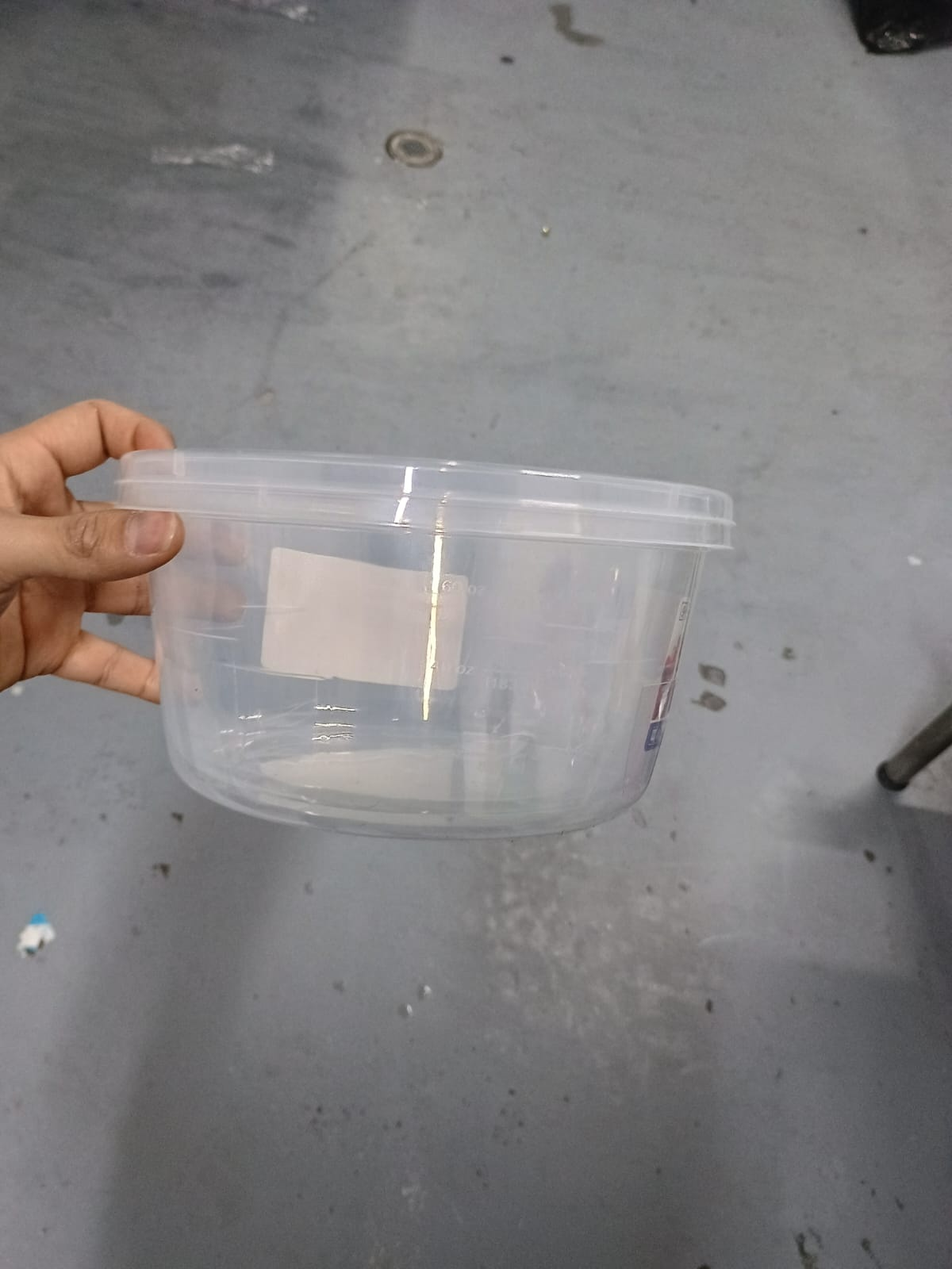Plastico: (113, 451, 738, 841)
